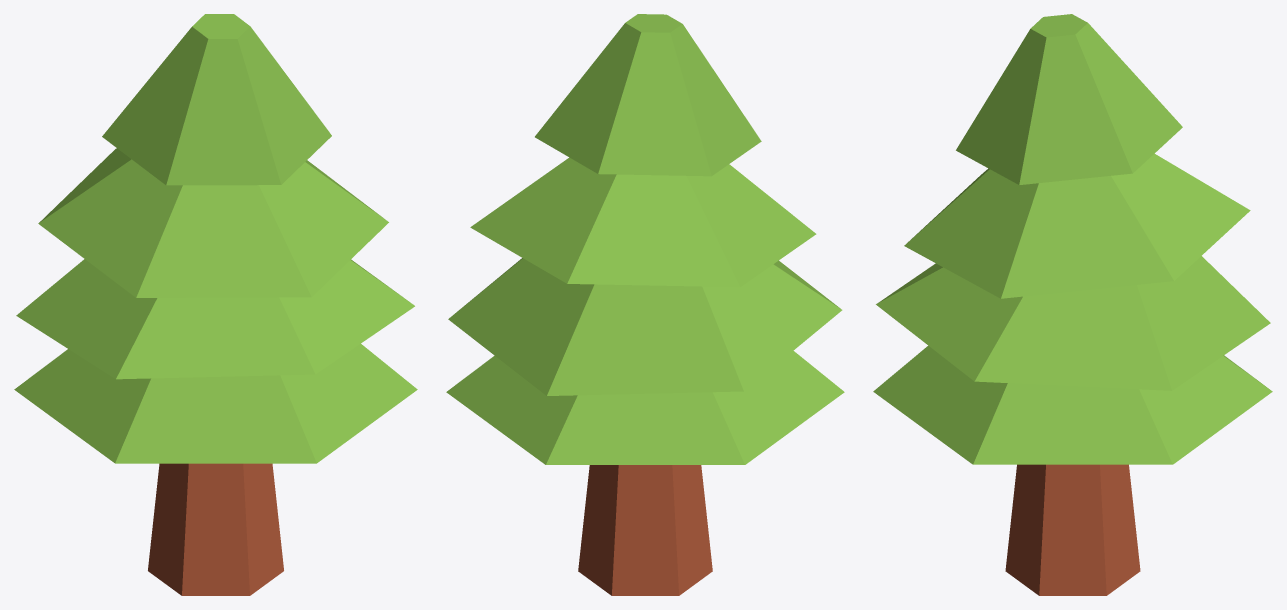
File: tree.fbx
3 views of the same model, side by side, from view 1: azimuth 30°, elevation 25°; view 2: azimuth 150°, elevation 25°; view 3: azimuth 270°, elevation 25° (orthographic).
Visible parts, largest first — view 1: Cylinder; view 2: Cylinder; view 3: Cylinder.
Boxes of the visible parts, x1,y1,x2,y2 form: Cylinder: (14,14,417,595); Cylinder: (446,14,844,595); Cylinder: (873,14,1272,595).
Size of the model in its own units: 513 by 893 by 592.
